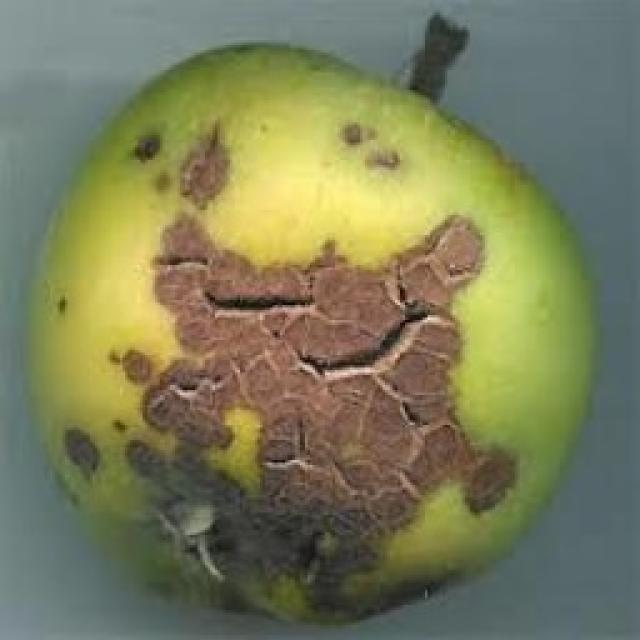defective: (25, 10, 600, 628)
